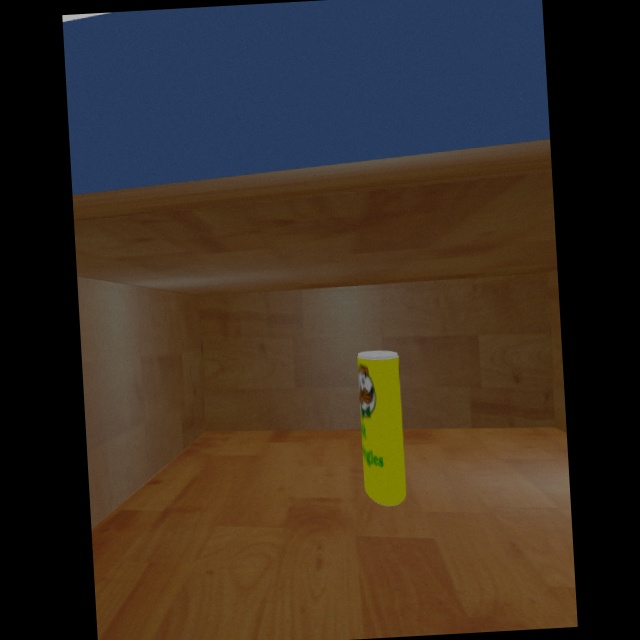chipsdose_gelb: (358, 350, 407, 507)
